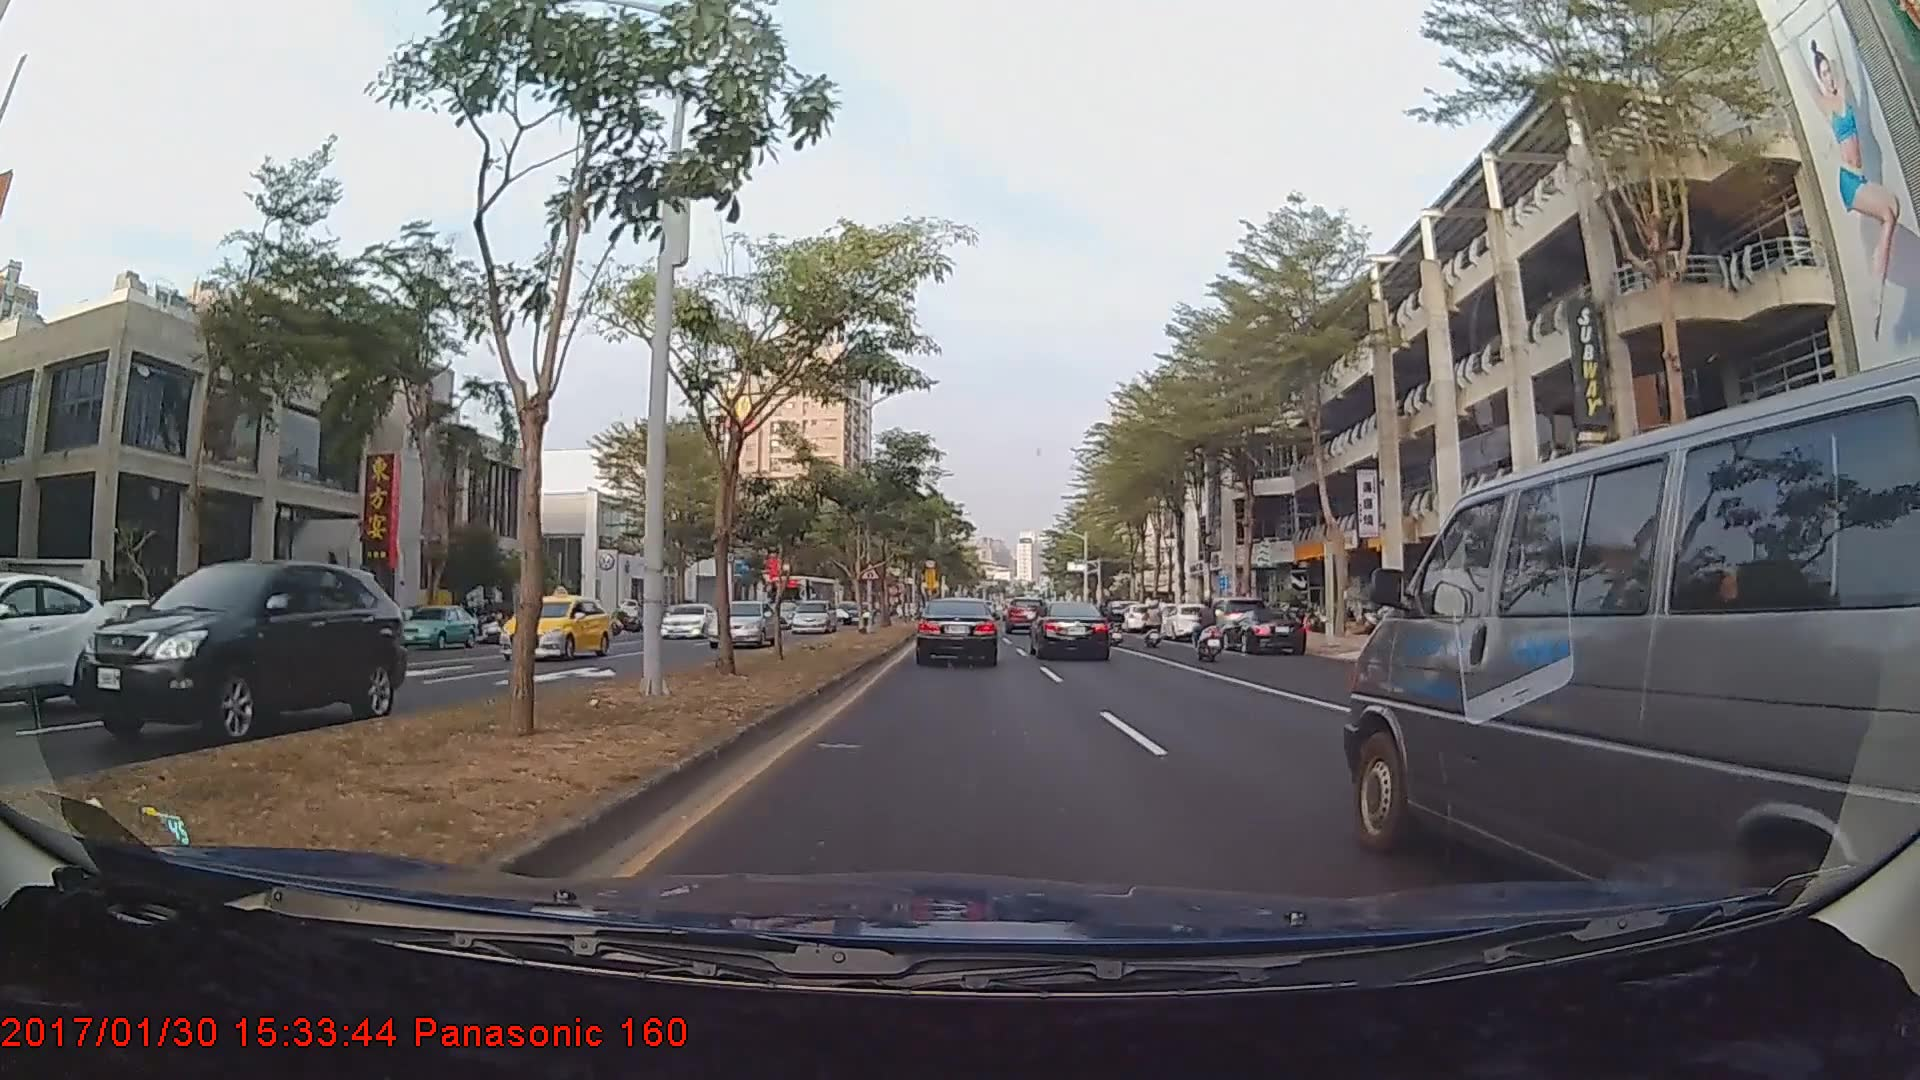rider: (1188, 591, 1233, 664), (1141, 588, 1169, 645)
vehicle: (1341, 399, 1897, 899), (75, 561, 405, 747), (0, 570, 115, 722), (500, 593, 609, 663), (917, 596, 1000, 668), (1032, 601, 1112, 661), (764, 574, 839, 629), (1221, 606, 1305, 654), (1195, 595, 1268, 647), (705, 597, 777, 648), (662, 601, 718, 641), (1156, 602, 1214, 639), (791, 597, 836, 634), (1006, 592, 1045, 628), (840, 601, 871, 623)
